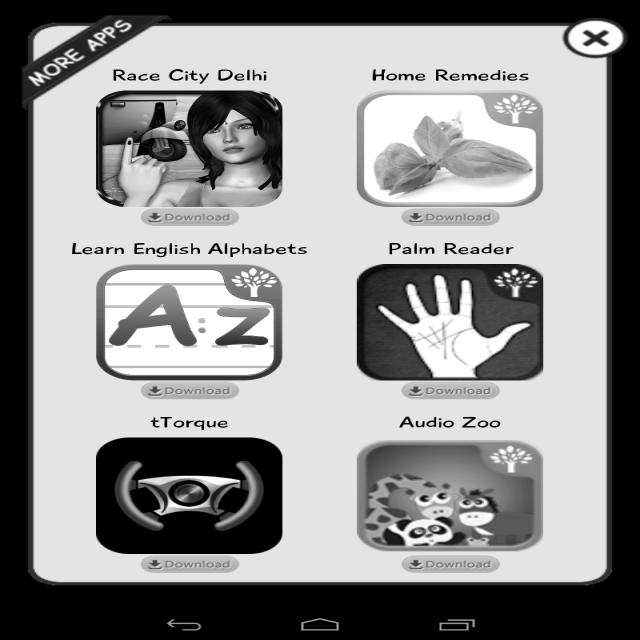Button: (400, 202, 502, 227), (402, 550, 507, 574), (140, 378, 242, 400)
ImageButton: (564, 15, 619, 59)
ImageView: (94, 434, 294, 546), (93, 92, 290, 202), (356, 266, 546, 374)
